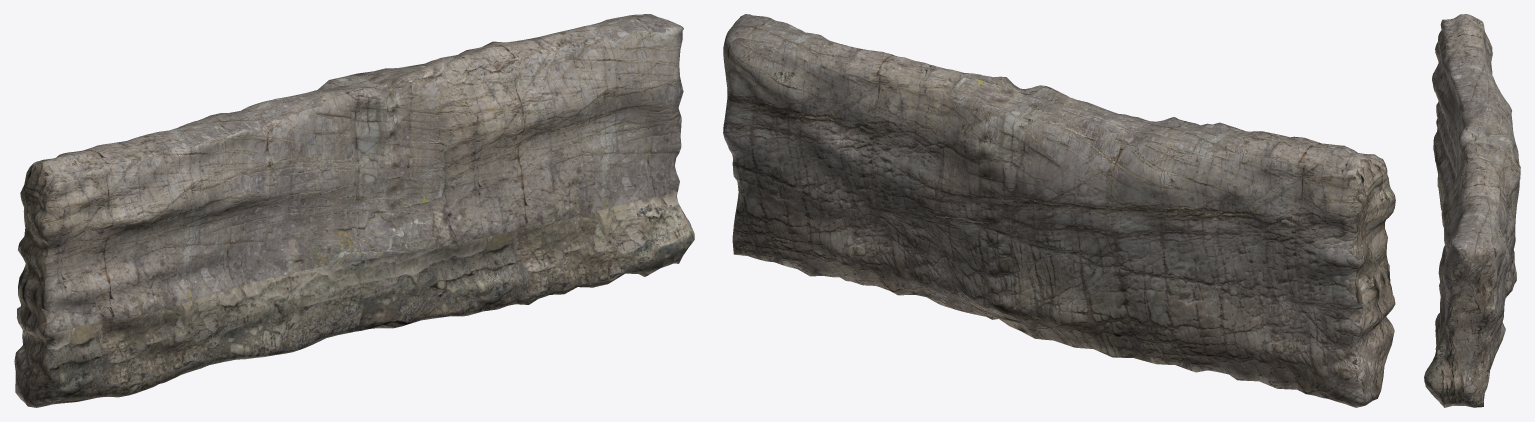
The model's file is stone_wall_b_1.fbx.
3 views of the same model, side by side, from view 1: azimuth 30°, elevation 25°; view 2: azimuth 150°, elevation 25°; view 3: azimuth 270°, elevation 25° (orthographic). The views are drawn at different scales.
Parts seen in each view (by area): view 1: Cube; view 2: Cube; view 3: Cube.
Boxes of the visible parts, left/top/right/bottom form: Cube: left=14, top=14, right=694, bottom=407; Cube: left=723, top=14, right=1395, bottom=407; Cube: left=1424, top=14, right=1520, bottom=407.
Bounding box in the file's own units: 6476 × 2316 × 1139.
1 material, 1 textured.
